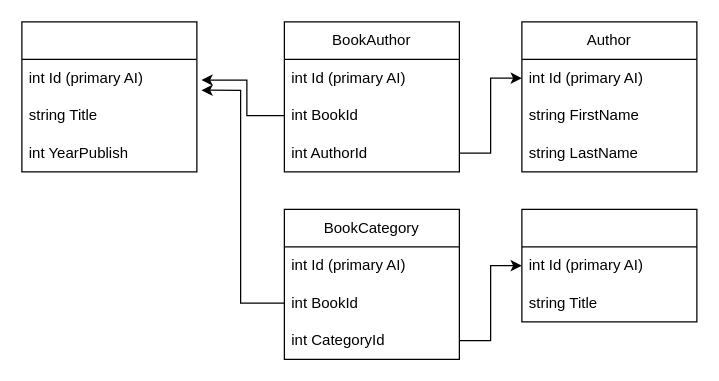
Image size: 719x381. Some labels were removed from this diagram. The box of each missing label's shape, as (x1, y1, x2, y2) in pixels:
Book: (21, 21, 197, 172)
Category: (521, 208, 697, 322)
